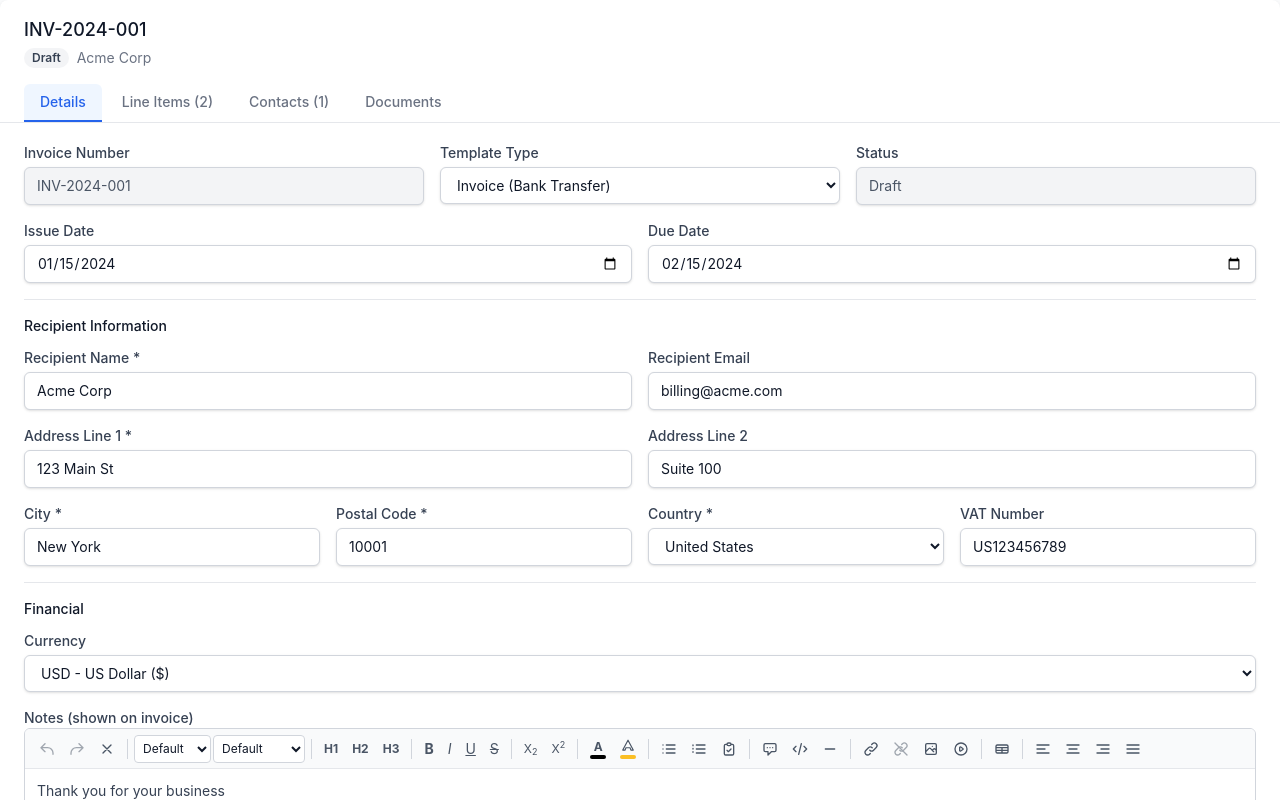
Test case: InvoiceDetailPanel › line items functionality › adds new line item when Add Line Item is clicked
Click the button "Line Items (2)" at (167, 103), box [106,84,229,122]
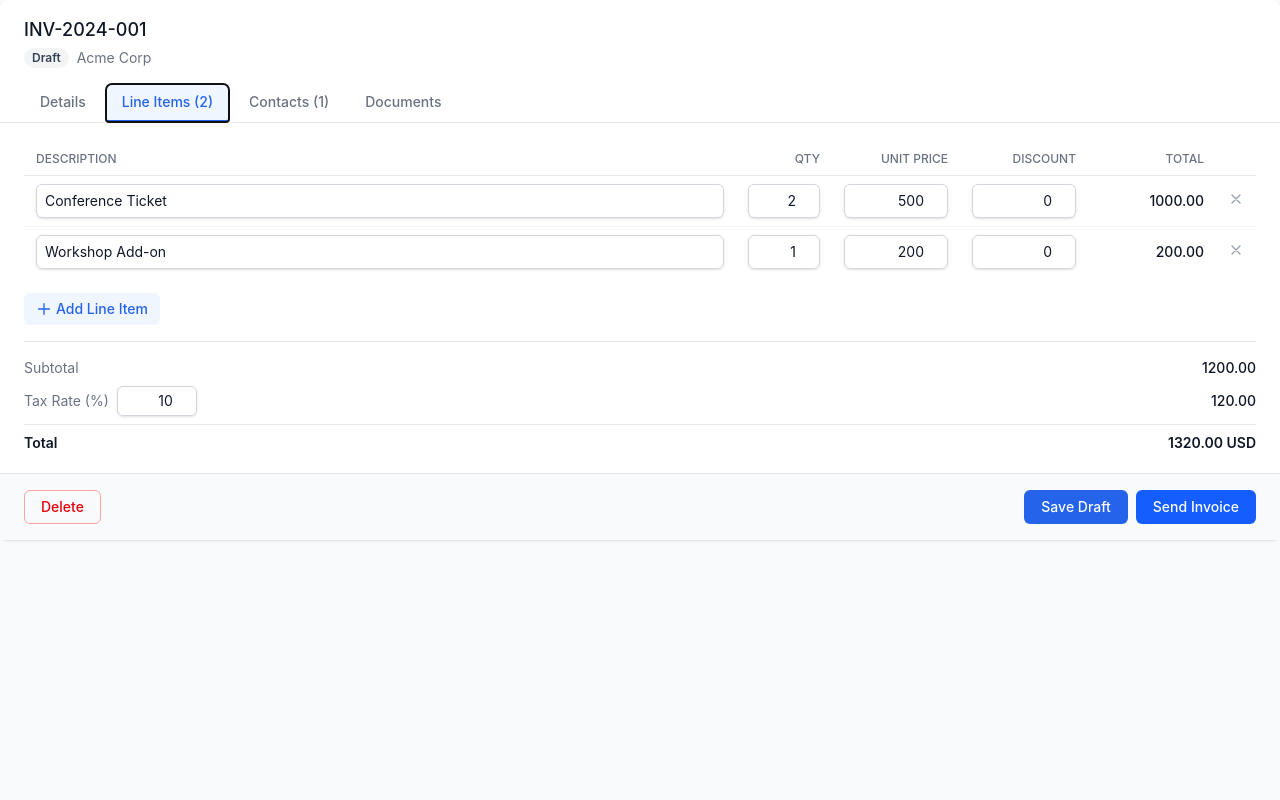
Click the button "Add Line Item" at (92, 309), box [24,293,160,325]
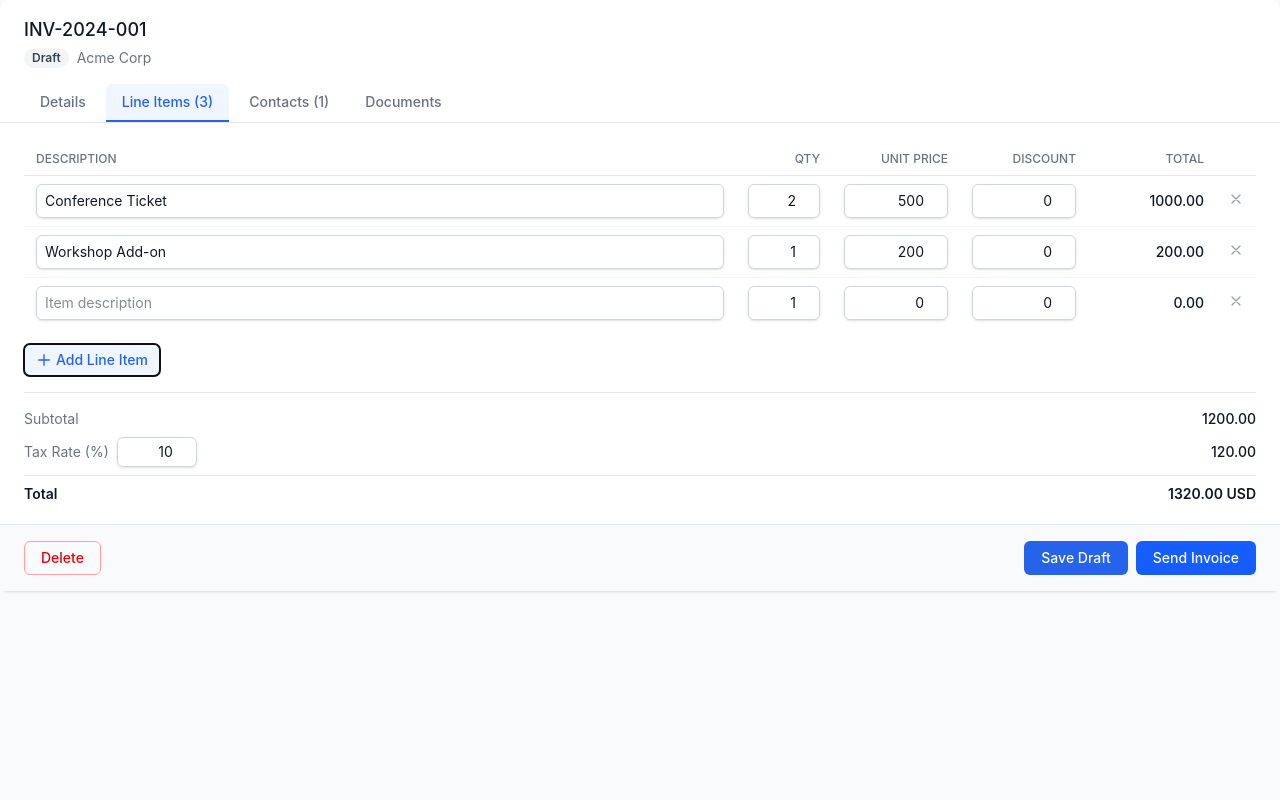
Check: the number of fields with placeholder "Item description" is 3, box [36,184,724,218]; [36,235,724,269]; [36,286,724,320]
